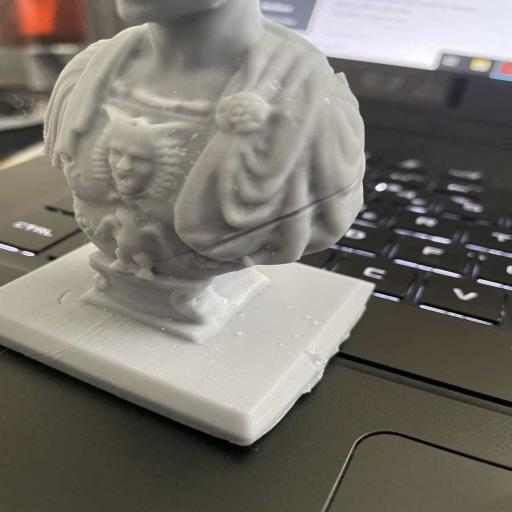cracks: (149, 172, 361, 266)
